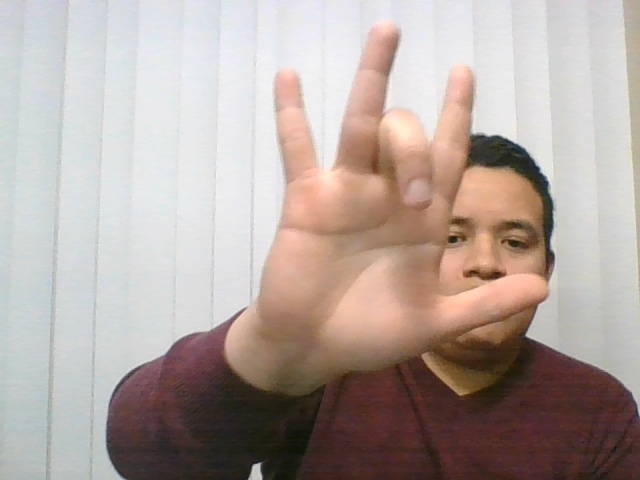Eight: (172, 13, 575, 398)
